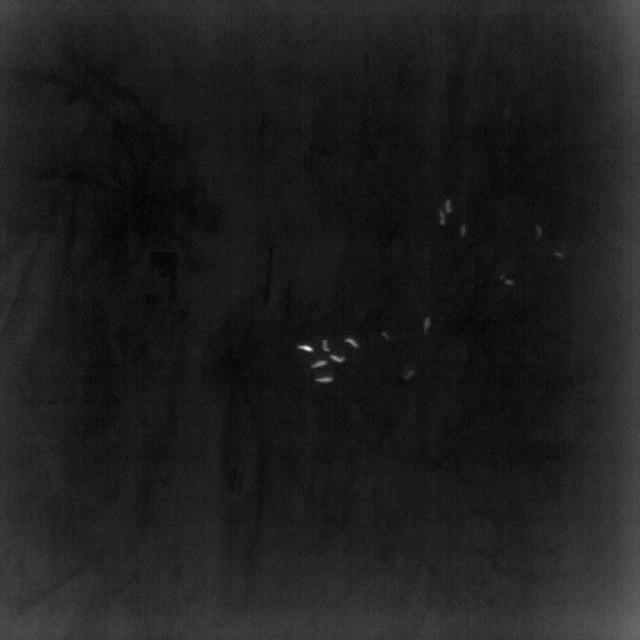deer: (499, 274, 516, 286), (344, 337, 360, 349), (534, 222, 544, 239), (402, 369, 416, 381), (310, 360, 328, 369), (329, 355, 347, 364), (314, 376, 334, 384), (296, 345, 315, 353), (423, 317, 431, 336), (321, 339, 331, 352), (439, 210, 446, 227), (445, 199, 453, 213), (460, 224, 467, 237), (554, 250, 565, 258), (382, 330, 390, 339)
